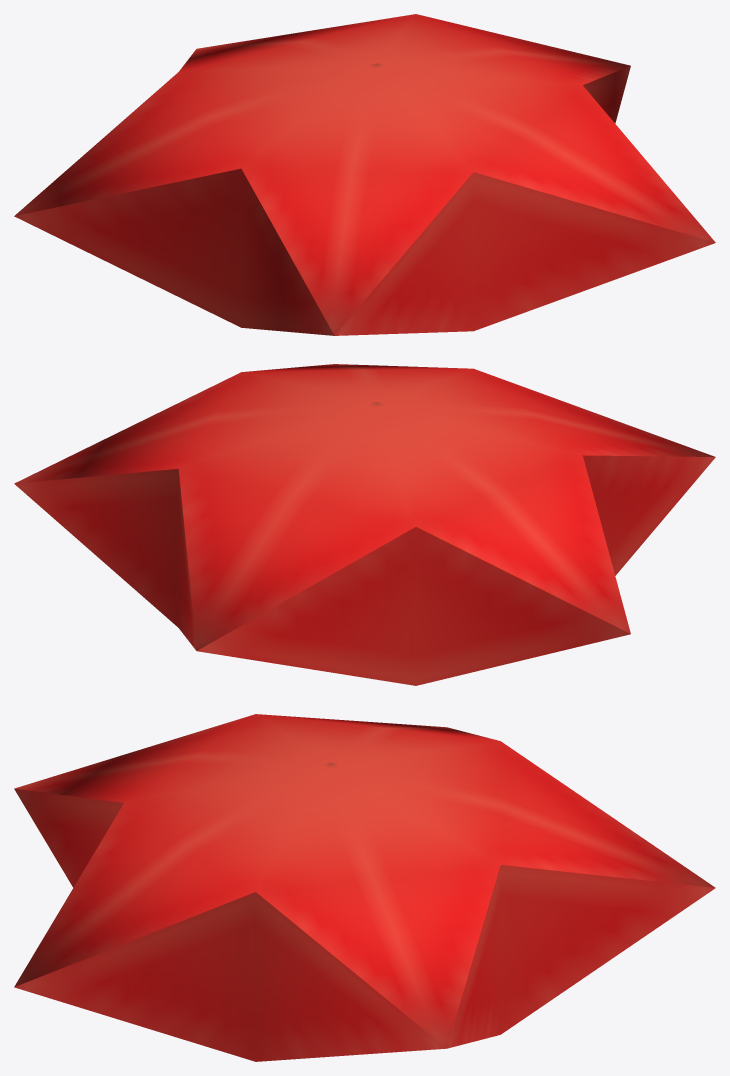
File: Star_Light_B.fbx
3 views of the same model, one above another, from view 1: azimuth 30°, elevation 25°; view 2: azimuth 150°, elevation 25°; view 3: azimuth 270°, elevation 25° (orthographic). The views are drawn at different scales.
Parts seen in each view (by area): view 1: Star_Light_B; view 2: Star_Light_B; view 3: Star_Light_B.
Boxes of the visible parts, left/top/right/bottom form: Star_Light_B: left=14, top=14, right=715, bottom=335; Star_Light_B: left=14, top=364, right=715, bottom=685; Star_Light_B: left=14, top=714, right=715, bottom=1061.
Size of the model in its own units: 21.43 by 7.73 by 19.77.
